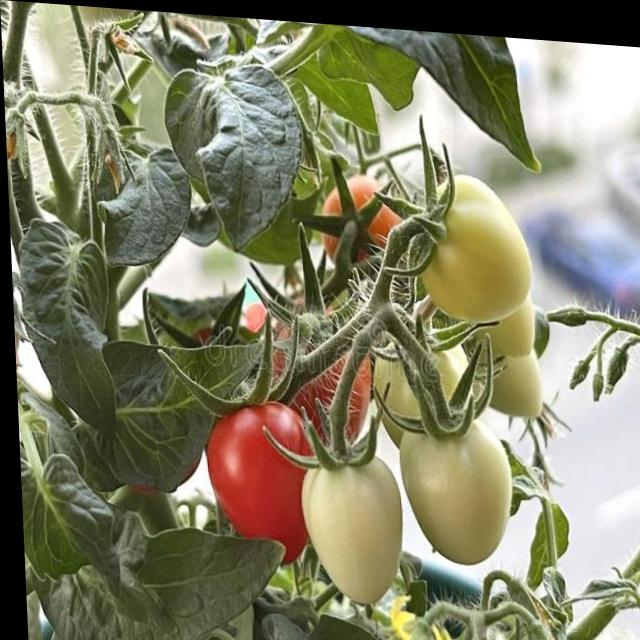kirmizi: (175, 375, 314, 527)
yesil: (391, 154, 546, 555), (274, 427, 410, 607)
